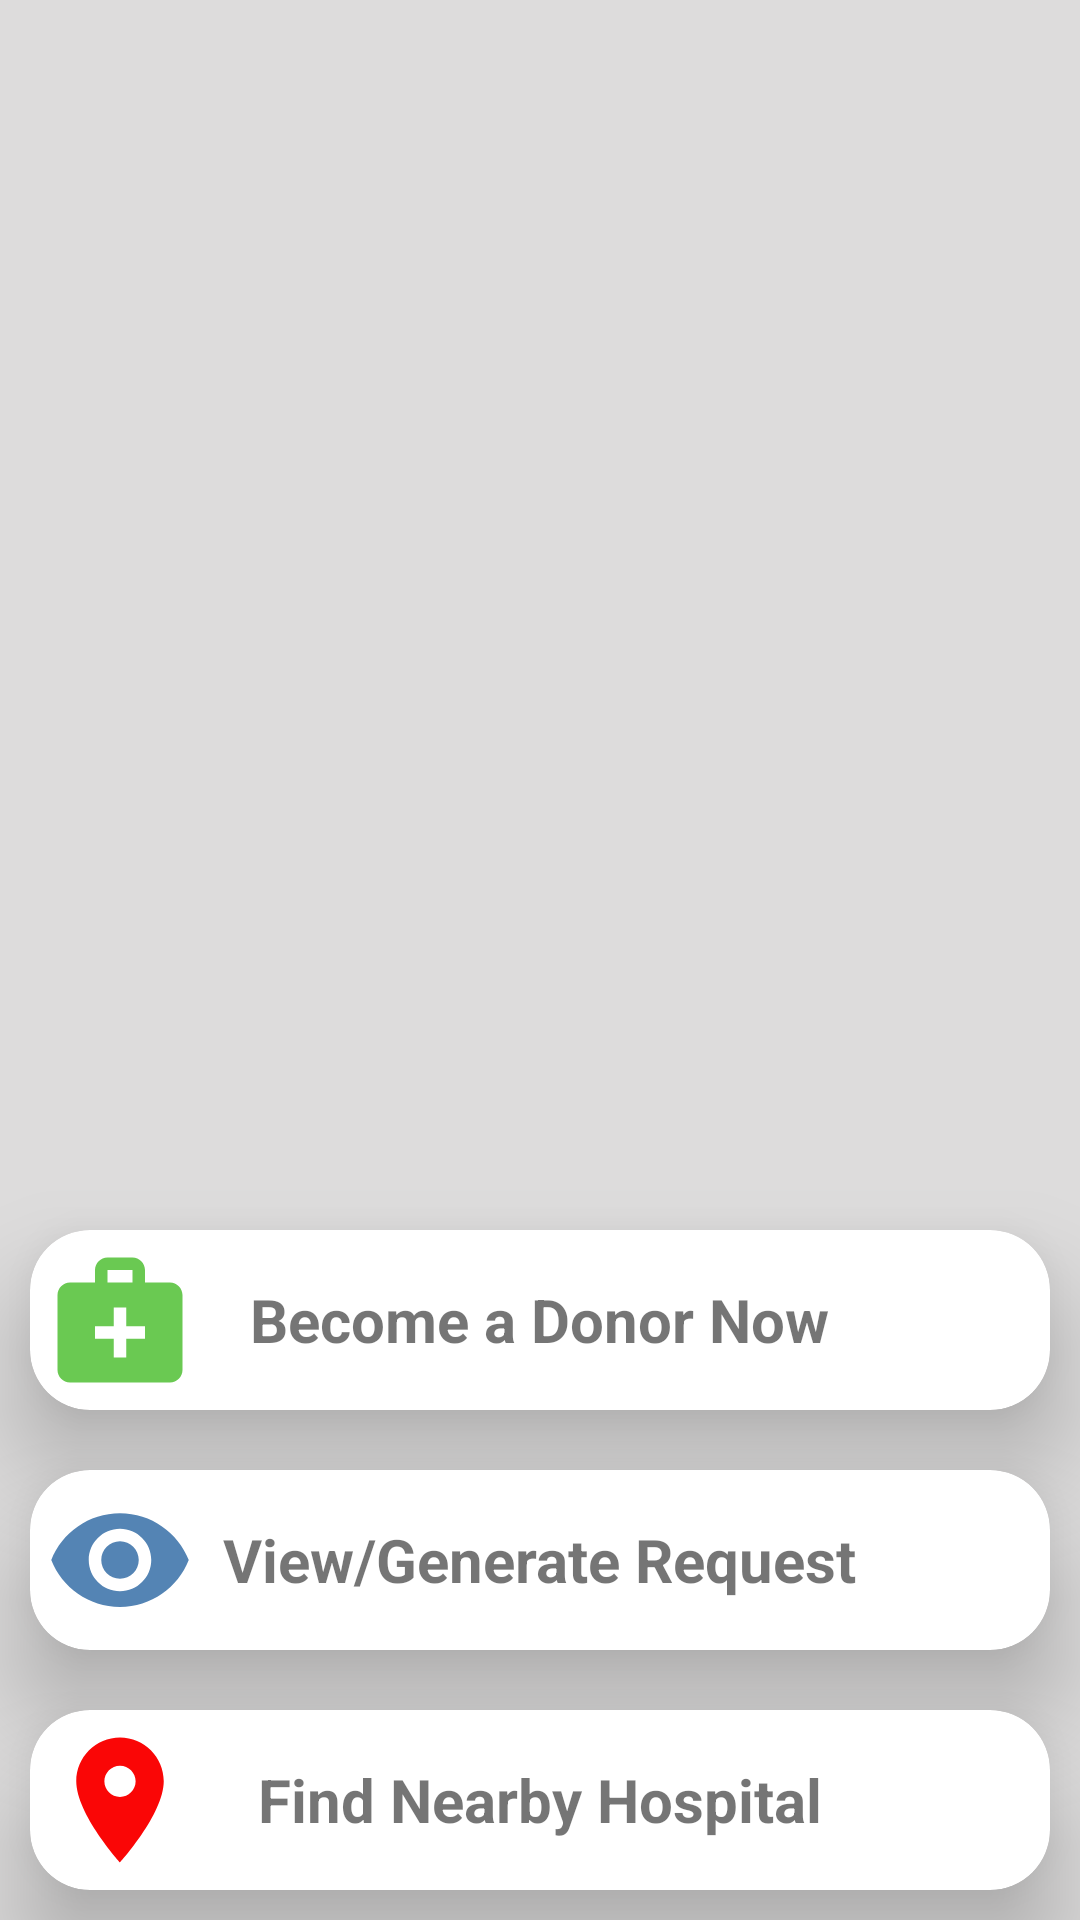

Screen size 1080px x 1920px. Icon name, then its center in pixels as (x,y):
location on: (120,1800)
medical services: (120,1320)
